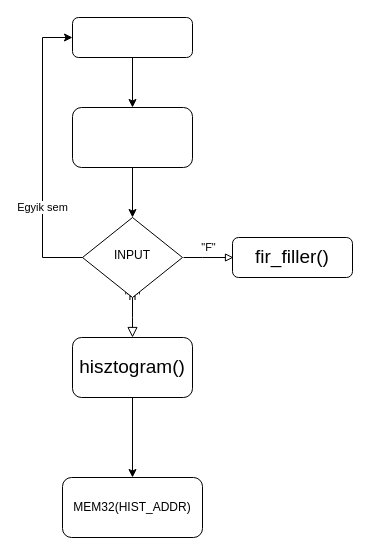
The diagram is 370 pixels wide and 555 high, and some of its shapes have lost their labels. The centre of each missing label's shape, as x and y in pixels:
fir_controller_func(): point 132,137
START: point 132,37
